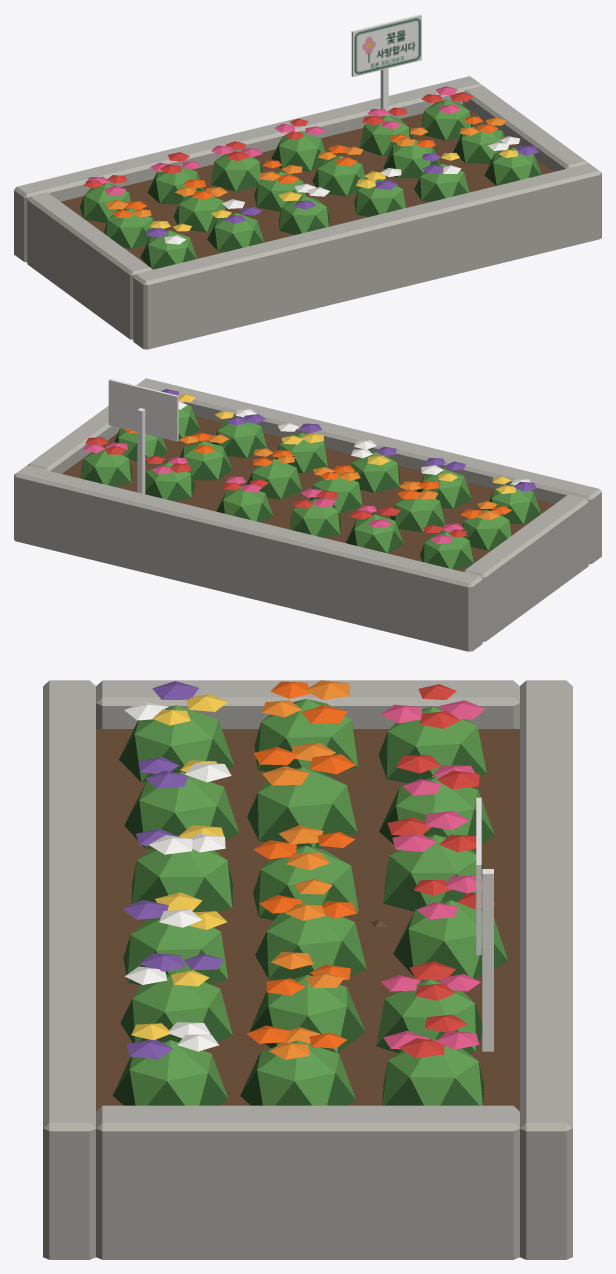
The model's file is SC_Nat_Flower_Bed.gltf.
3 renders of one model, top to bottom at view 1: azimuth 30°, elevation 25°; view 2: azimuth 150°, elevation 25°; view 3: azimuth 270°, elevation 25°, orthographic. The views are drawn at different scales.
Visible parts, largest first — view 1: SC_Nat_Flower_Bed; view 2: SC_Nat_Flower_Bed; view 3: SC_Nat_Flower_Bed.
Boxes of the visible parts, box(x1,y1,x2,y2) form: SC_Nat_Flower_Bed: box(14, 14, 601, 349); SC_Nat_Flower_Bed: box(14, 378, 601, 651); SC_Nat_Flower_Bed: box(43, 680, 572, 1259).
Bounding box in the file's own units: 2 × 0.6737 × 1.
Materials: 2 (2 with a texture image).
